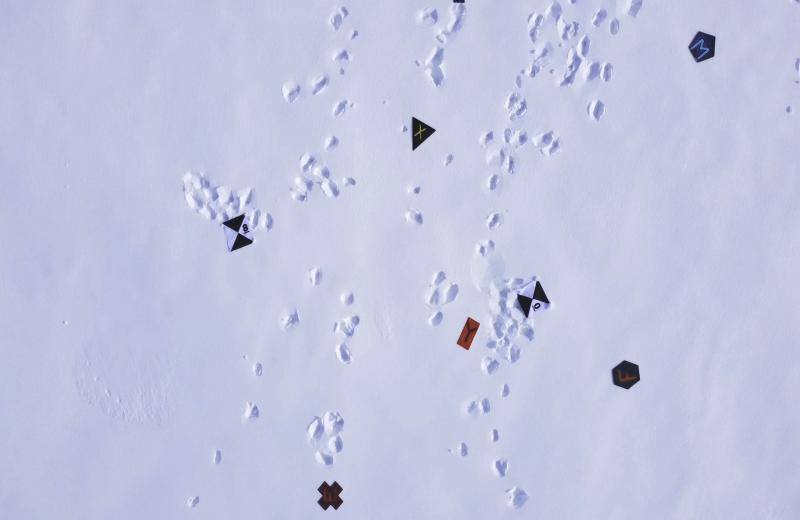Cross: (313, 478, 347, 514)
Hexagon: (606, 356, 644, 392)
Pentagon: (687, 27, 719, 66)
Rectangle: (453, 312, 481, 354)
Triangle: (406, 114, 438, 154)
